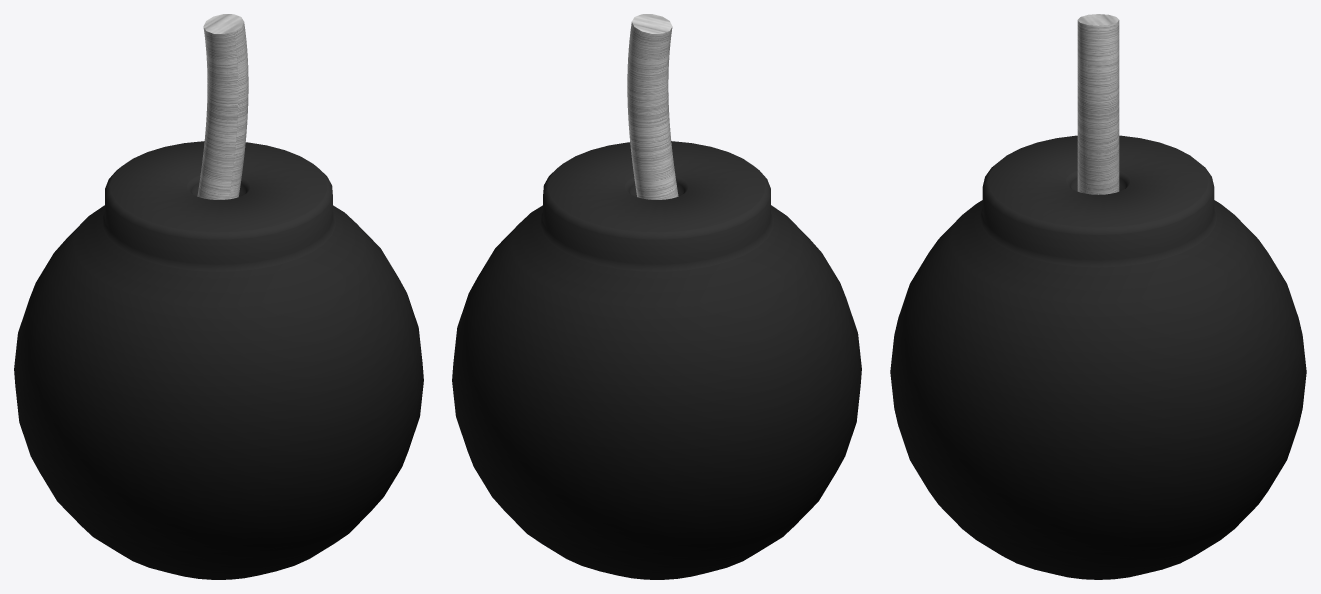
Rendered from Bomb.fbx.
The picture shows the model from 3 angles, left to right: view 1: azimuth 30°, elevation 25°; view 2: azimuth 150°, elevation 25°; view 3: azimuth 270°, elevation 25°; orthographic projection.
Visible parts, largest first — view 1: Bomb; view 2: Bomb; view 3: Bomb.
Part boxes in pixels (x1,y1,x2,y2): Bomb: (14, 14, 423, 579); Bomb: (452, 14, 861, 579); Bomb: (890, 14, 1306, 579).
Size of the model in its own units: 100 by 145 by 100.
